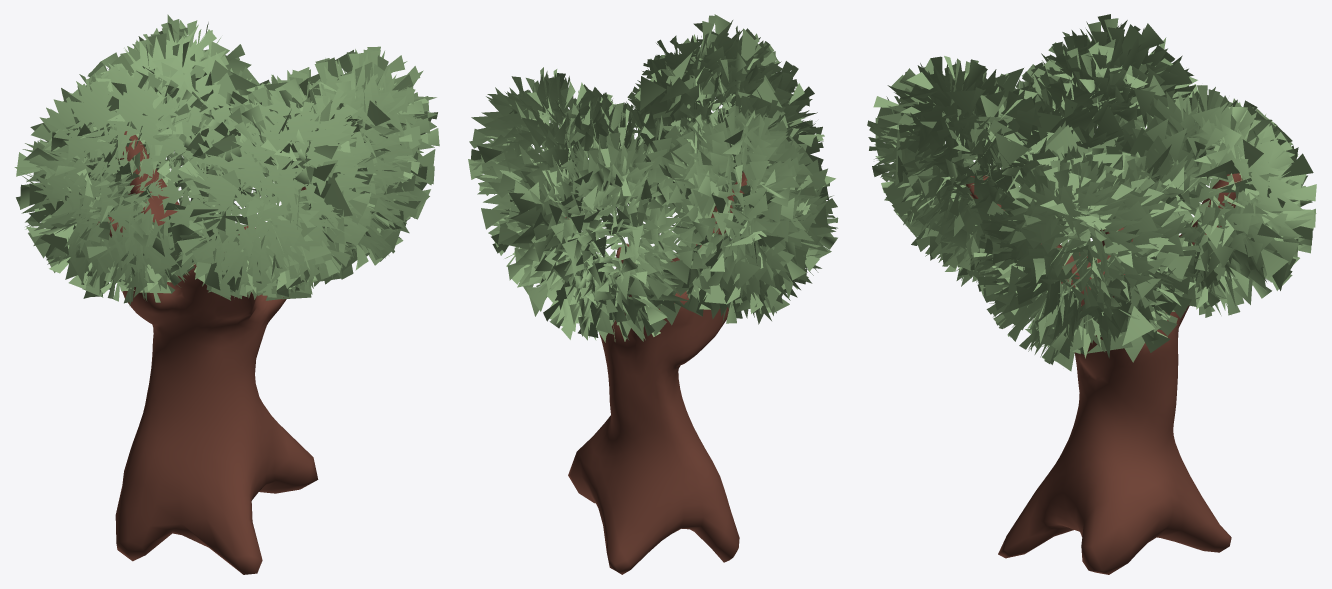
Rendered from tree2.glb.
3 renders of one model, left to right at view 1: azimuth 30°, elevation 25°; view 2: azimuth 150°, elevation 25°; view 3: azimuth 270°, elevation 25°, orthographic. The views are drawn at different scales.
Parts seen in each view (by area): view 1: leaves, trunk; view 2: leaves, trunk; view 3: leaves, trunk.
Boxes of the visible parts, x1,y1,x2,y2 form: leaves: [14, 14, 439, 305]; trunk: [97, 131, 318, 574]; leaves: [468, 14, 838, 342]; trunk: [565, 171, 747, 574]; leaves: [867, 14, 1316, 371]; trunk: [966, 173, 1242, 574].
Bounding box in the file's own units: 5.01 × 6.24 × 4.88.
2 materials, 2 textured.
